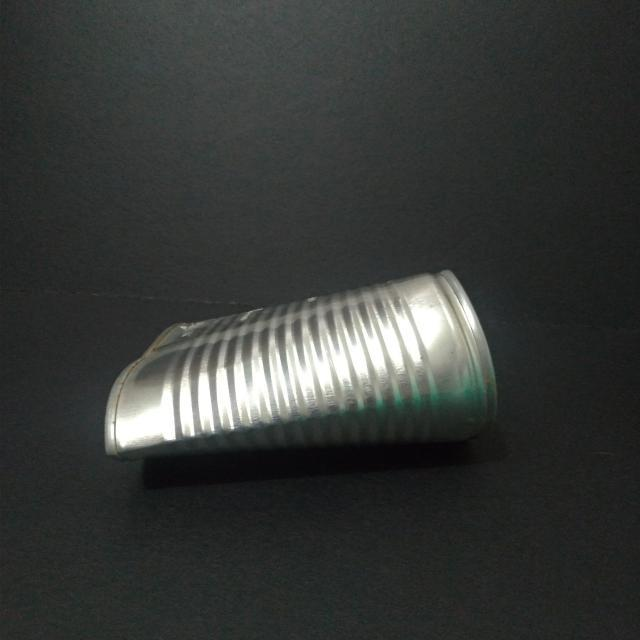metal-can: (98, 260, 505, 463)
